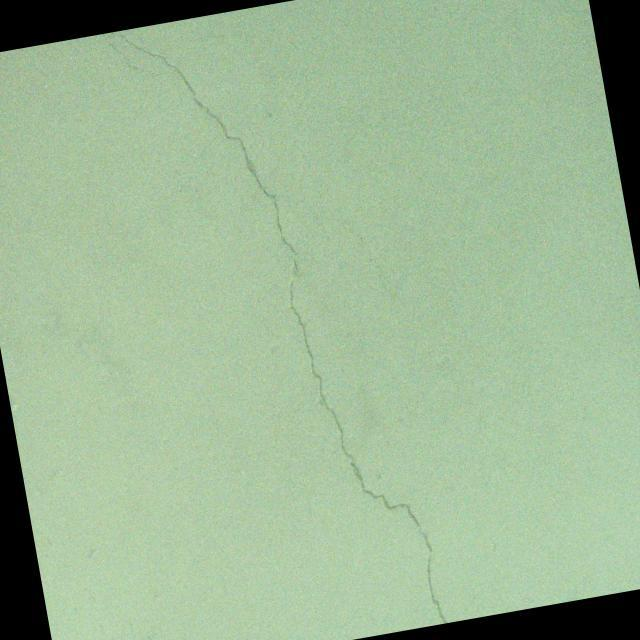crack: (102, 0, 449, 640), (348, 216, 376, 266)
